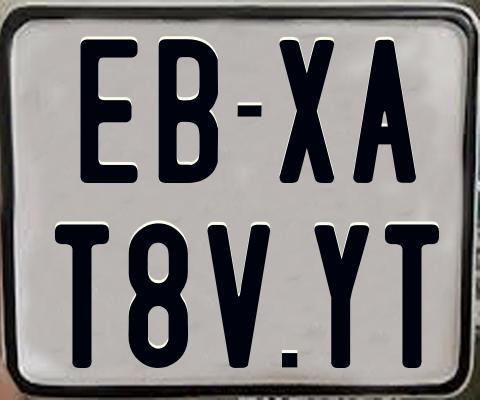8: (125, 220, 189, 366)
A: (353, 38, 417, 184)
B: (156, 39, 219, 187)
E: (79, 36, 140, 180)
T: (382, 224, 437, 374), (55, 223, 110, 368)
V: (205, 223, 269, 368)
X: (277, 39, 335, 183)
Y: (312, 223, 369, 367)
